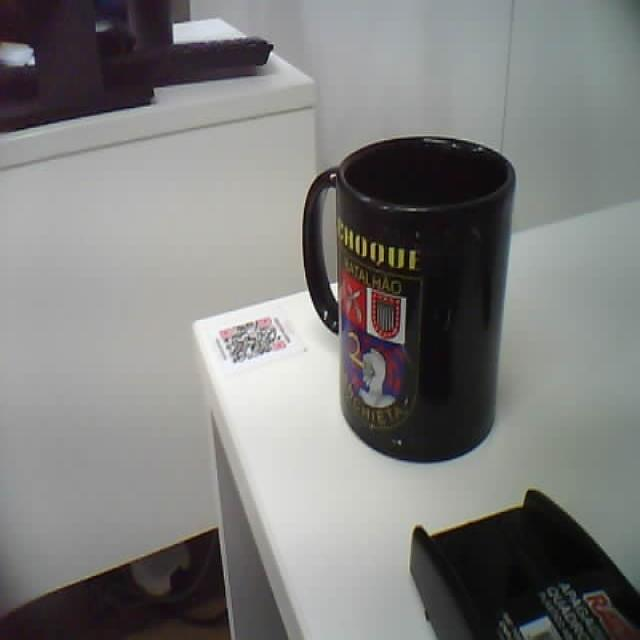caneca: (303, 137, 515, 460)
